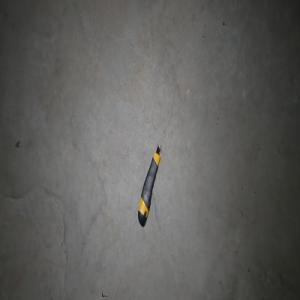Cutter: (136, 143, 161, 227)
